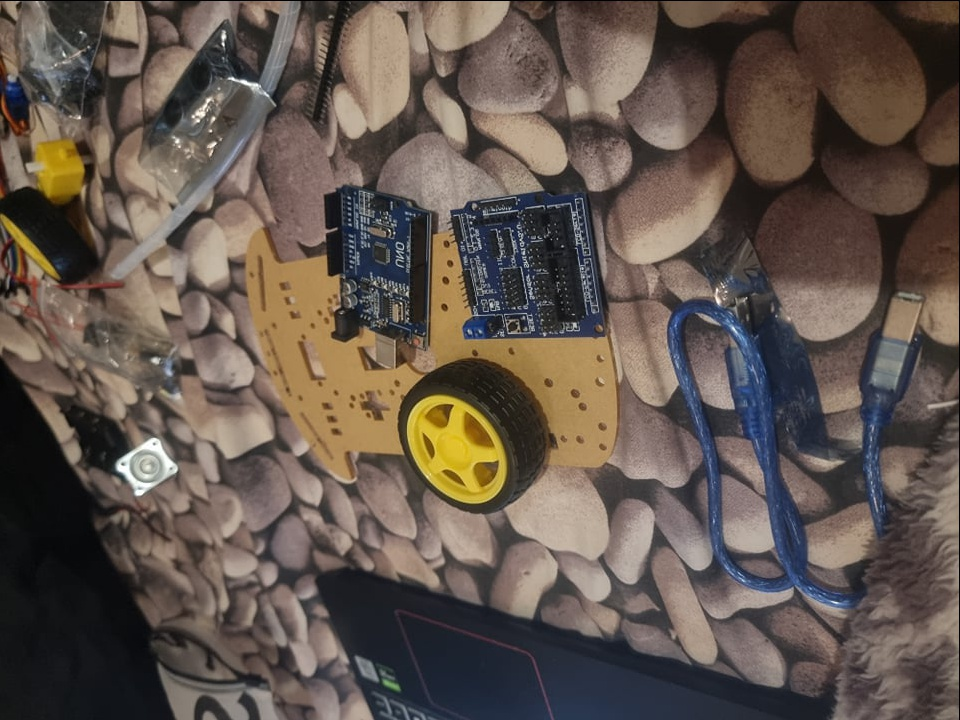5V EXPANSION: (450, 191, 603, 337)
BATTERY BOX: (57, 396, 125, 473)
UNO R3: (320, 190, 438, 366)
